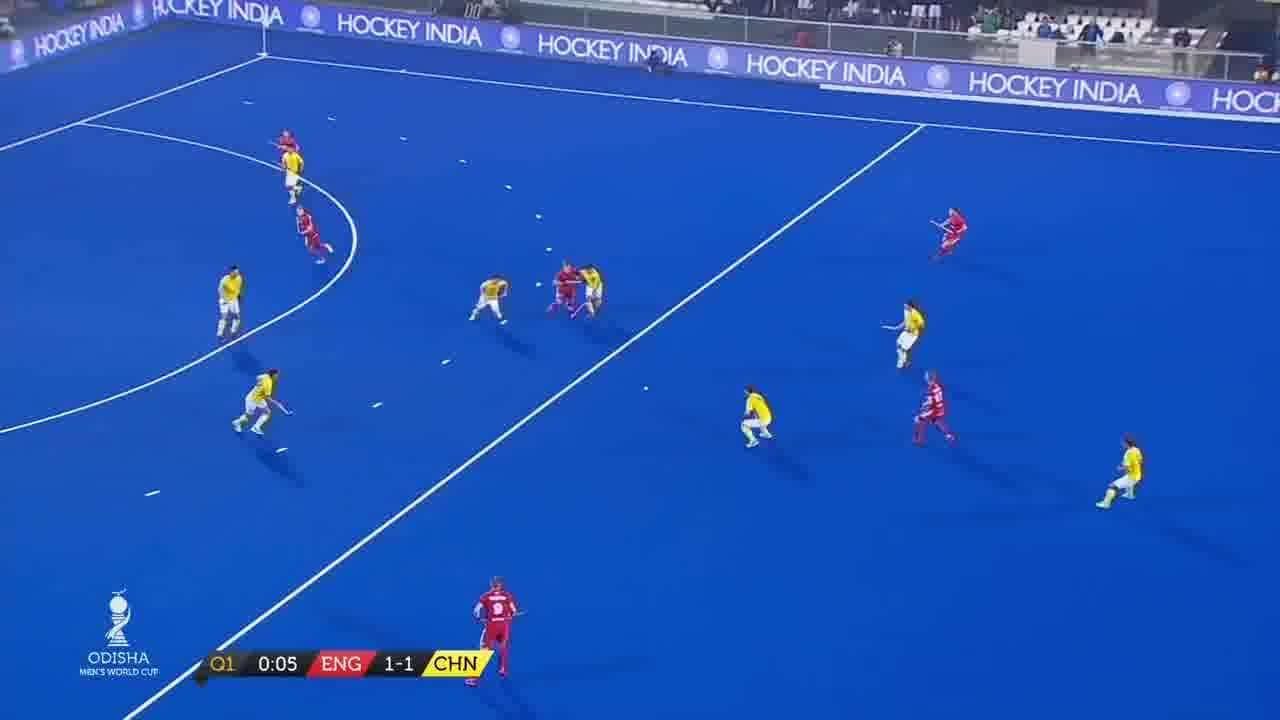ball: (640, 383, 650, 392)
